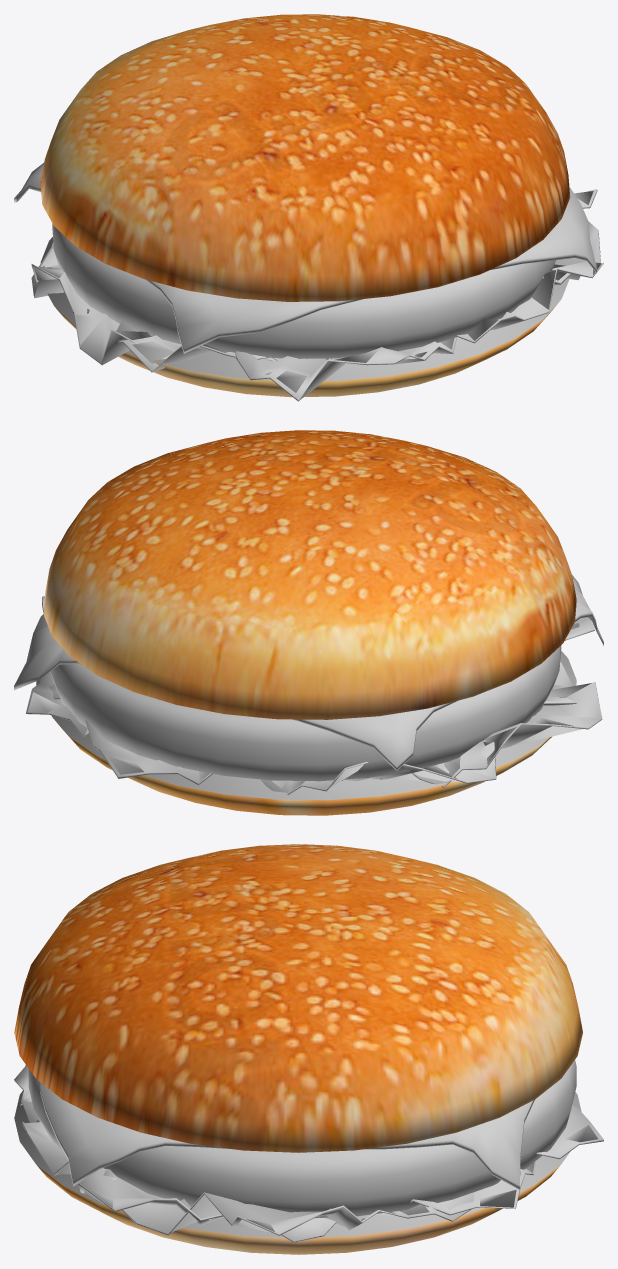
File: burger.fbx
3 views of the same model, one above another, from view 1: azimuth 30°, elevation 25°; view 2: azimuth 150°, elevation 25°; view 3: azimuth 270°, elevation 25° (orthographic). The views are drawn at different scales.
Visible parts, largest first — view 1: Bun__top_, Burger, lettuce, Bun__bottom_, Cheese; view 2: Bun__top_, Burger, lettuce, Bun__bottom_, Cheese; view 3: Bun__top_, Burger, lettuce, Bun__bottom_, Cheese.
Boxes of the visible parts, bbox=[...] form: Bun__top_: bbox=[40, 14, 570, 301]; Burger: bbox=[52, 223, 555, 358]; lettuce: bbox=[31, 189, 603, 401]; Bun__bottom_: bbox=[40, 237, 569, 397]; Cheese: bbox=[14, 162, 596, 353]; Bun__top_: bbox=[43, 430, 576, 719]; Burger: bbox=[50, 645, 561, 781]; lettuce: bbox=[26, 596, 602, 794]; Bun__bottom_: bbox=[51, 650, 576, 815]; Cheese: bbox=[14, 575, 603, 770]; Bun__top_: bbox=[14, 844, 582, 1152]; Burger: bbox=[28, 1060, 576, 1218]; lettuce: bbox=[14, 1065, 603, 1242]; Bun__bottom_: bbox=[14, 1090, 581, 1254]; Cheese: bbox=[40, 1082, 534, 1189].
Size of the model in its own units: 1.12 by 0.5237 by 1.04.
